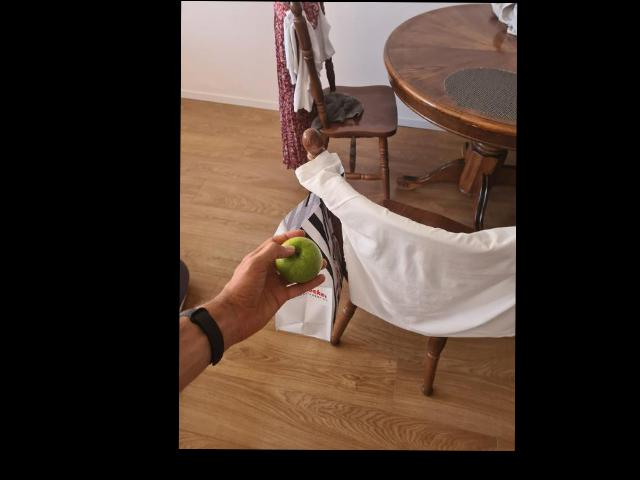apple: (278, 237, 320, 281)
